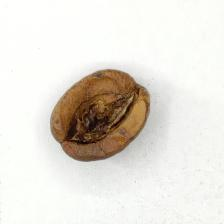NG: (69, 82, 135, 147)
